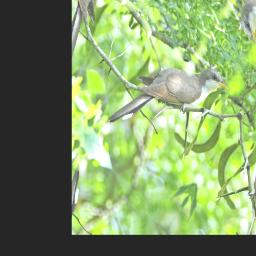Cuckoo: (107, 16, 230, 191)
